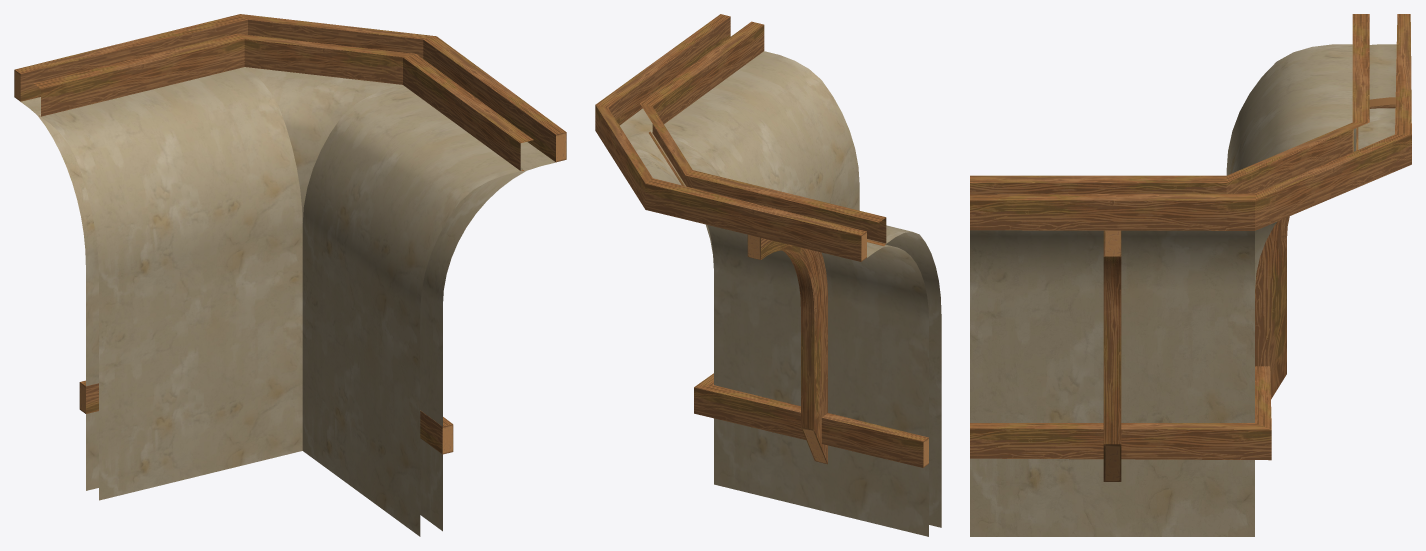
The model's file is Overhang_Plaster_Corner.gltf.
The picture shows the model from 3 angles, left to right: view 1: azimuth 30°, elevation 25°; view 2: azimuth 150°, elevation 25°; view 3: azimuth 270°, elevation 25°; orthographic projection. The views are drawn at different scales.
Visible parts, largest first — view 1: Overhang_Plaster_Corner; view 2: Overhang_Plaster_Corner; view 3: Overhang_Plaster_Corner.
Boxes of the visible parts, x1,y1,x2,y2 form: Overhang_Plaster_Corner: (14,14,566,536); Overhang_Plaster_Corner: (595,14,941,536); Overhang_Plaster_Corner: (970,14,1411,536).
Size of the model in its own units: 3.1 by 3.12 by 3.1.
Materials: 2 (2 with a texture image).
